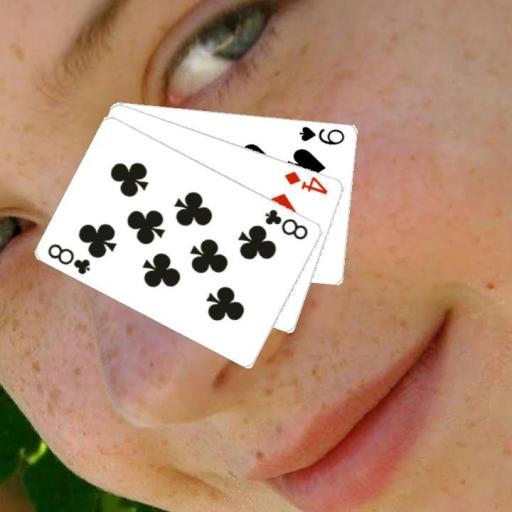4D: (282, 167, 330, 196)
8C: (45, 240, 93, 276), (262, 206, 310, 241)
9S: (296, 123, 346, 147)
